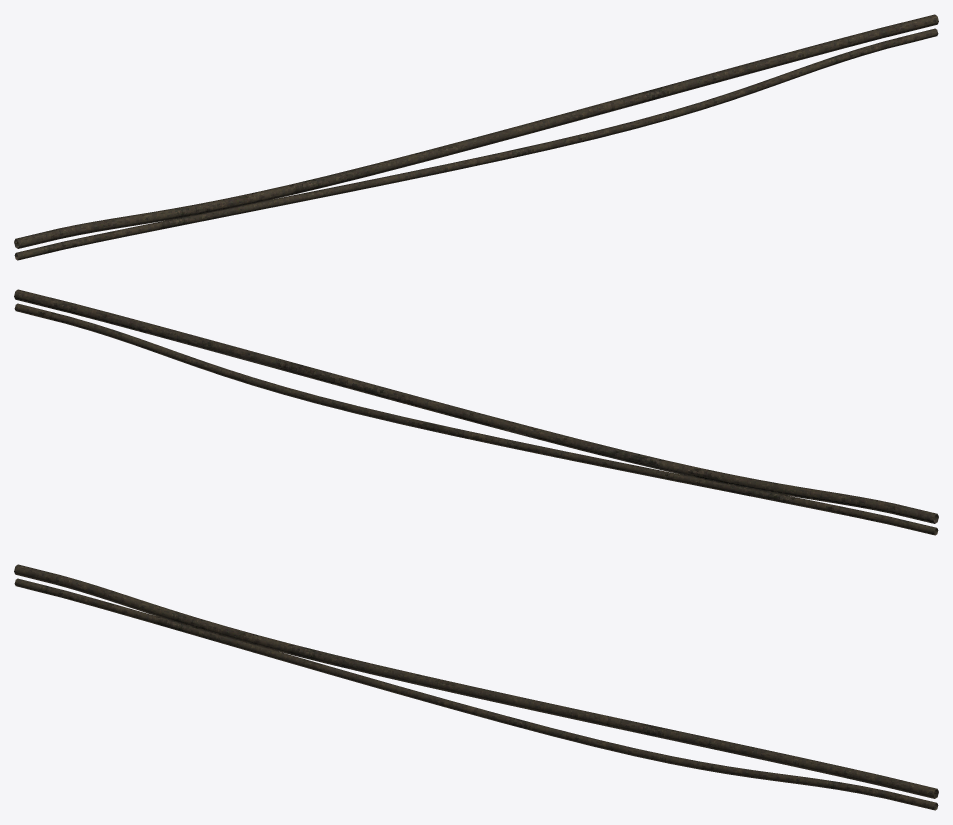
The model's file is wires_hr_2_2.glb.
3 renders of one model, top to bottom at view 1: azimuth 30°, elevation 25°; view 2: azimuth 150°, elevation 25°; view 3: azimuth 330°, elevation 25°, orthographic.
Parts seen in each view (by area): view 1: wires_hr_2_2; view 2: wires_hr_2_2; view 3: wires_hr_2_2.
Part boxes in pixels (<box>): wires_hr_2_2: <box>14,14,938,260</box>; wires_hr_2_2: <box>14,289,938,535</box>; wires_hr_2_2: <box>14,564,938,810</box>.
Size of the model in its own units: 4 by 0.1646 by 0.04.
1 material, 1 textured.
